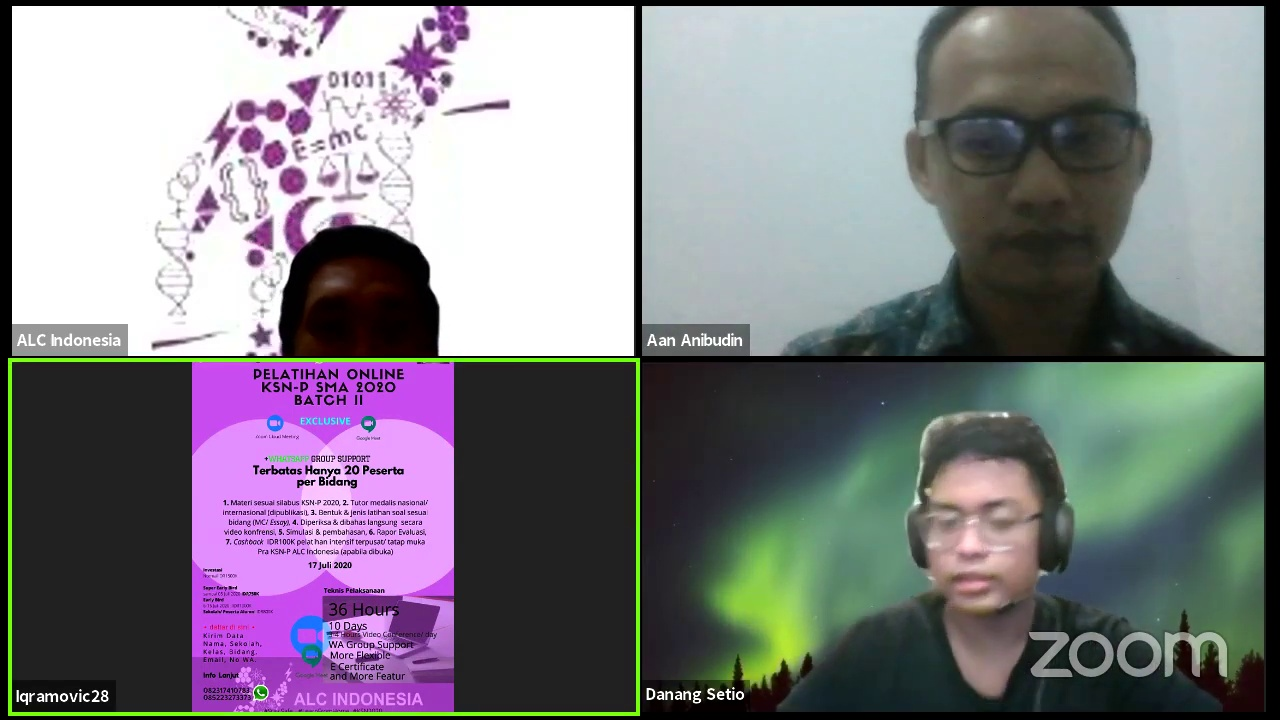Distracted: (894, 432, 1062, 610)
Not Distracted: (907, 12, 1149, 301), (281, 238, 444, 351)
